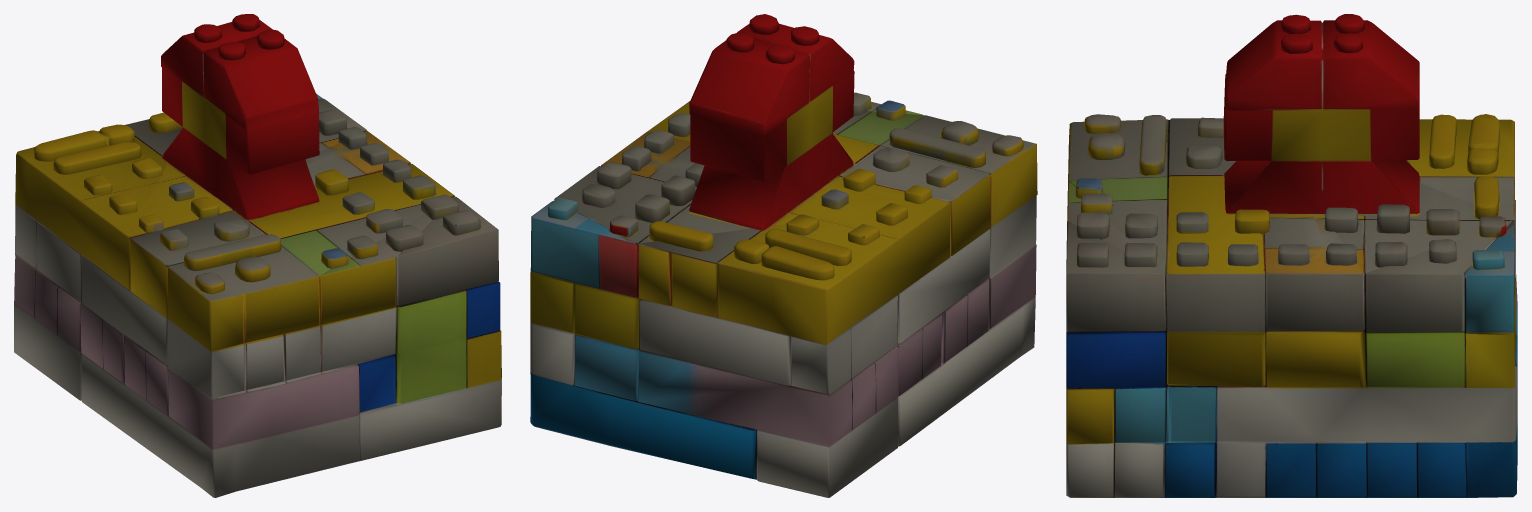
The model's file is object_5_asset_23640261.glb.
3 views of the same model, side by side, from view 1: azimuth 30°, elevation 25°; view 2: azimuth 150°, elevation 25°; view 3: azimuth 270°, elevation 25° (orthographic). The views are drawn at different scales.
Parts seen in each view (by area): view 1: tripo_node_35132aa0-f7c2-4edc-920a-f8ac7a4a7bd3; view 2: tripo_node_35132aa0-f7c2-4edc-920a-f8ac7a4a7bd3; view 3: tripo_node_35132aa0-f7c2-4edc-920a-f8ac7a4a7bd3.
Part boxes in pixels (bbox=[...]): tripo_node_35132aa0-f7c2-4edc-920a-f8ac7a4a7bd3: bbox=[14, 14, 501, 497]; tripo_node_35132aa0-f7c2-4edc-920a-f8ac7a4a7bd3: bbox=[530, 14, 1037, 497]; tripo_node_35132aa0-f7c2-4edc-920a-f8ac7a4a7bd3: bbox=[1066, 14, 1517, 497].
Bounding box in the file's own units: 0.8301 × 0.9551 × 0.998.
Materials: 1 (1 with a texture image).
